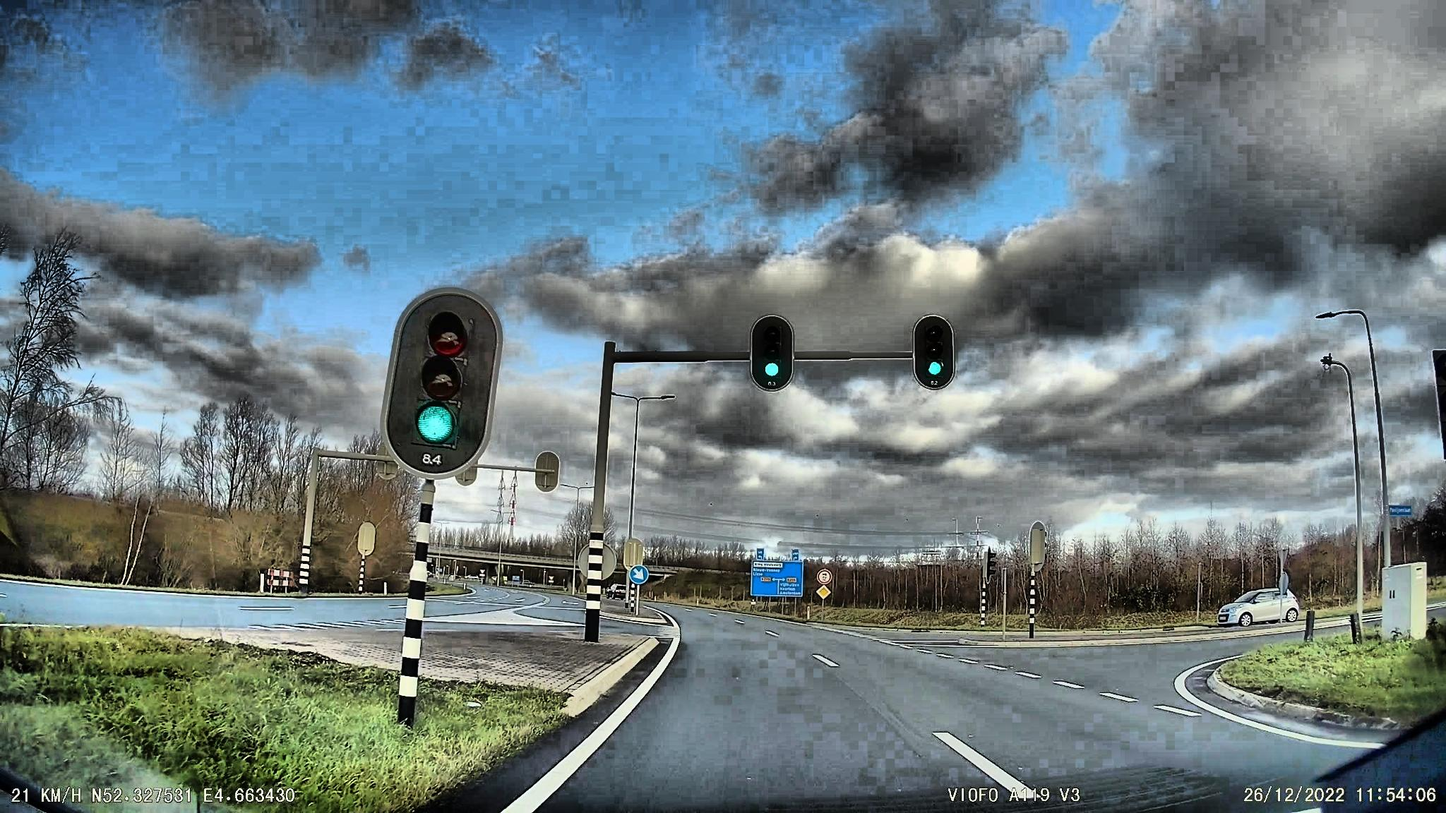Roads: (441, 607, 1370, 813)
